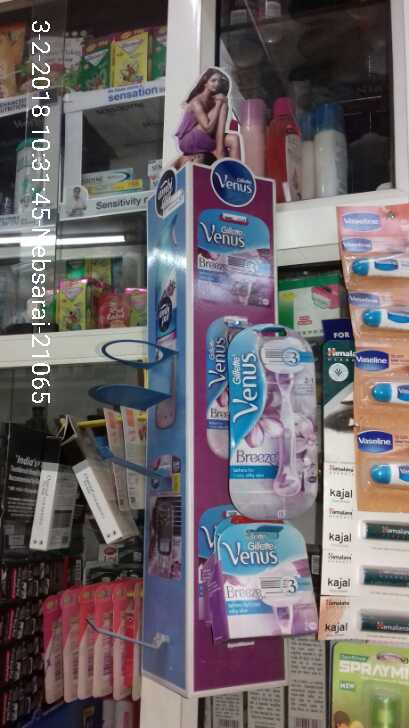venus: (231, 326, 326, 513), (221, 517, 317, 637)
